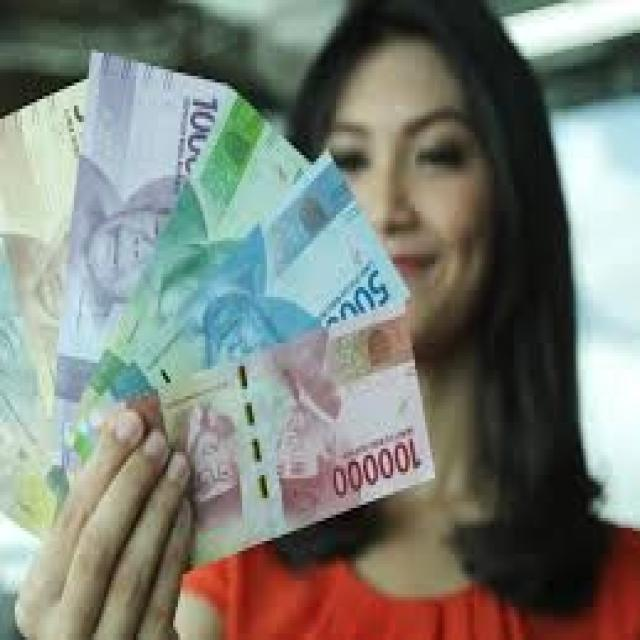dua puluh ribu rupiah: (72, 91, 308, 439)
lima puluh ribu rupiah: (91, 148, 412, 419)
lima ribu rupiah: (0, 81, 85, 530)
sepuluh ribu rupiah: (52, 51, 230, 476)
seratus ribu rupiah: (126, 308, 436, 576)
